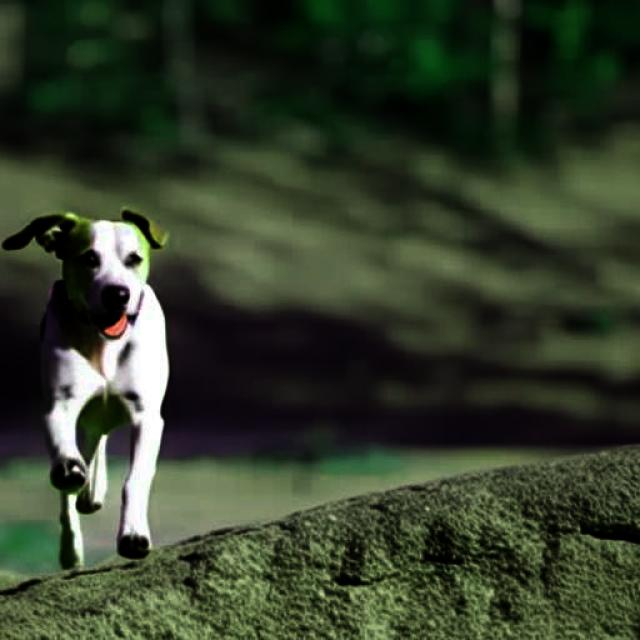Dog: (3, 207, 169, 568)
